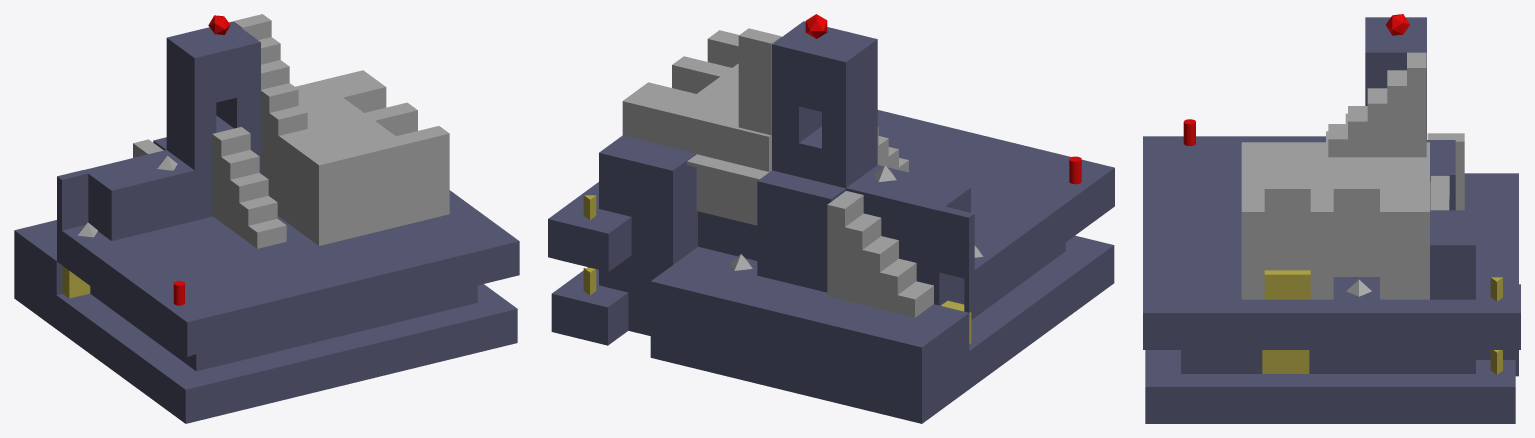
Rendered from stage001.fbx.
3 views of the same model, side by side, from view 1: azimuth 30°, elevation 25°; view 2: azimuth 150°, elevation 25°; view 3: azimuth 270°, elevation 25° (orthographic). The views are drawn at different scales.
Visible parts, largest first — view 1: mainMap, sideMap, Stairs001, Stairs002, Door001; view 2: mainMap, sideMap, Stairs003, Stairs002, Bridge001, Stairs001; view 3: mainMap, sideMap, Stairs002, Door002, Stairs003, Bridge001, Goal.
Part boxes in pixels (x1,y1,x2,y2): mainMap: [14, 21, 519, 423]; sideMap: [261, 70, 449, 245]; Stairs001: [212, 127, 286, 248]; Stairs002: [233, 14, 307, 135]; Door001: [62, 266, 90, 298]; mainMap: [548, 21, 1114, 423]; sideMap: [622, 30, 771, 225]; Stairs003: [827, 191, 933, 317]; Stairs002: [738, 28, 781, 135]; Bridge001: [687, 154, 769, 182]; Stairs001: [877, 127, 908, 172]; mainMap: [1143, 17, 1520, 423]; sideMap: [1241, 142, 1429, 299]; Stairs002: [1328, 52, 1426, 157]; Door002: [1262, 270, 1310, 373]; Stairs003: [1427, 133, 1464, 210]; Bridge001: [1430, 175, 1449, 210]; Goal: [1386, 14, 1409, 35].
Size of the model in its own units: 34.03 by 27.96 by 30.72.
